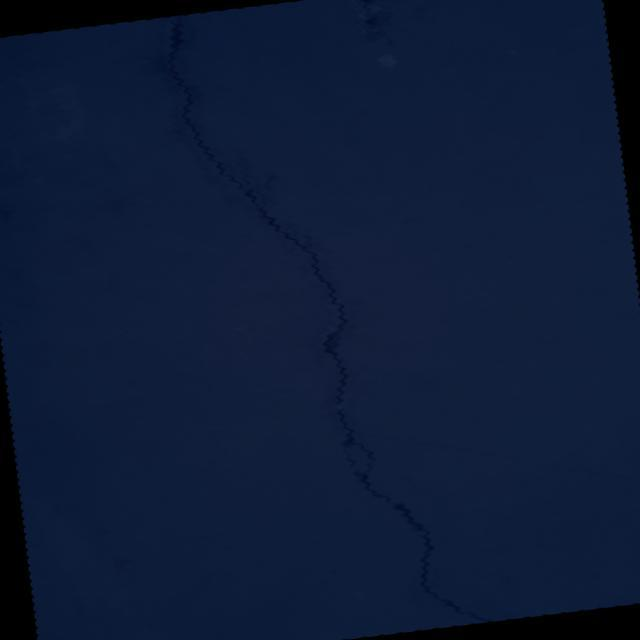crack: (161, 0, 492, 640)
